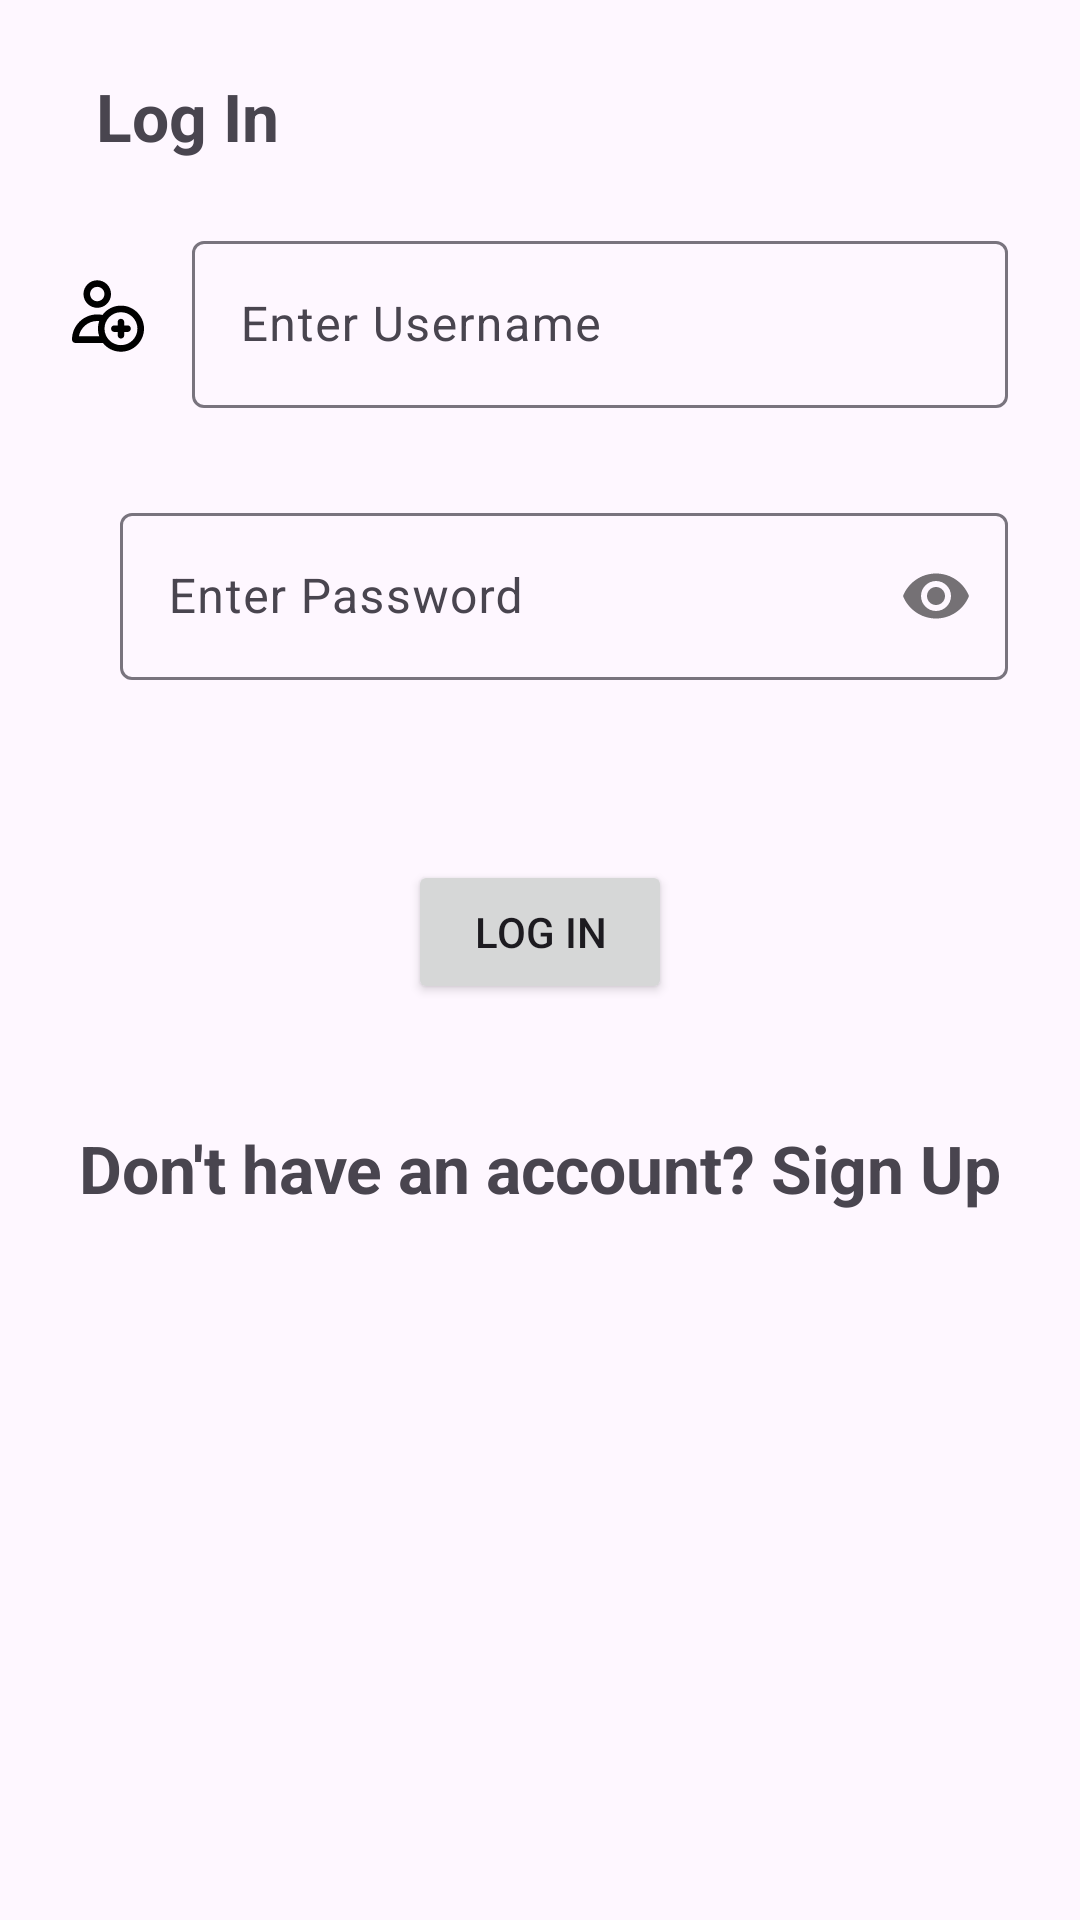

Screen size 1080×1920. Icon name, then its box in pixels as (x1, y1, x2, y2):
add user: (72, 280, 144, 352)
